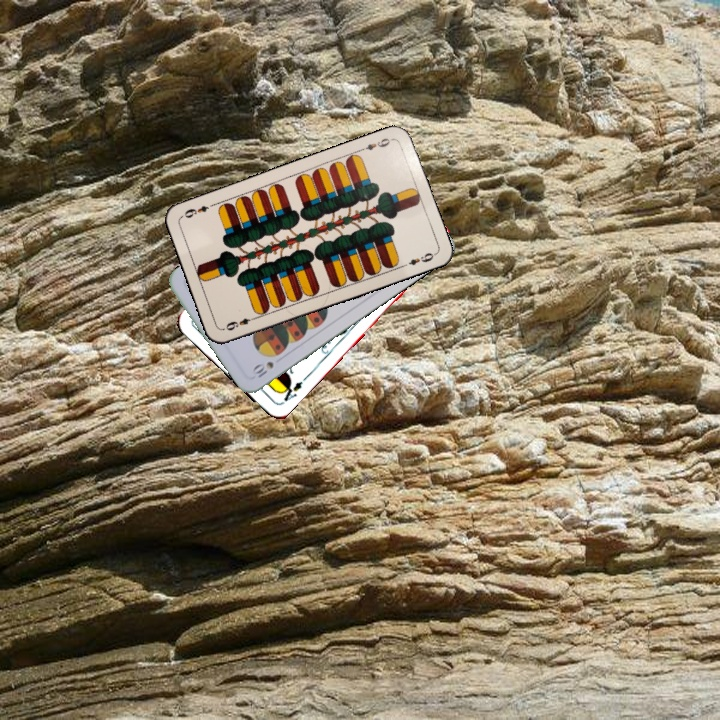E9: (220, 313, 260, 333), (356, 134, 395, 154)
EA: (276, 377, 306, 407)
S10: (248, 357, 276, 382)
